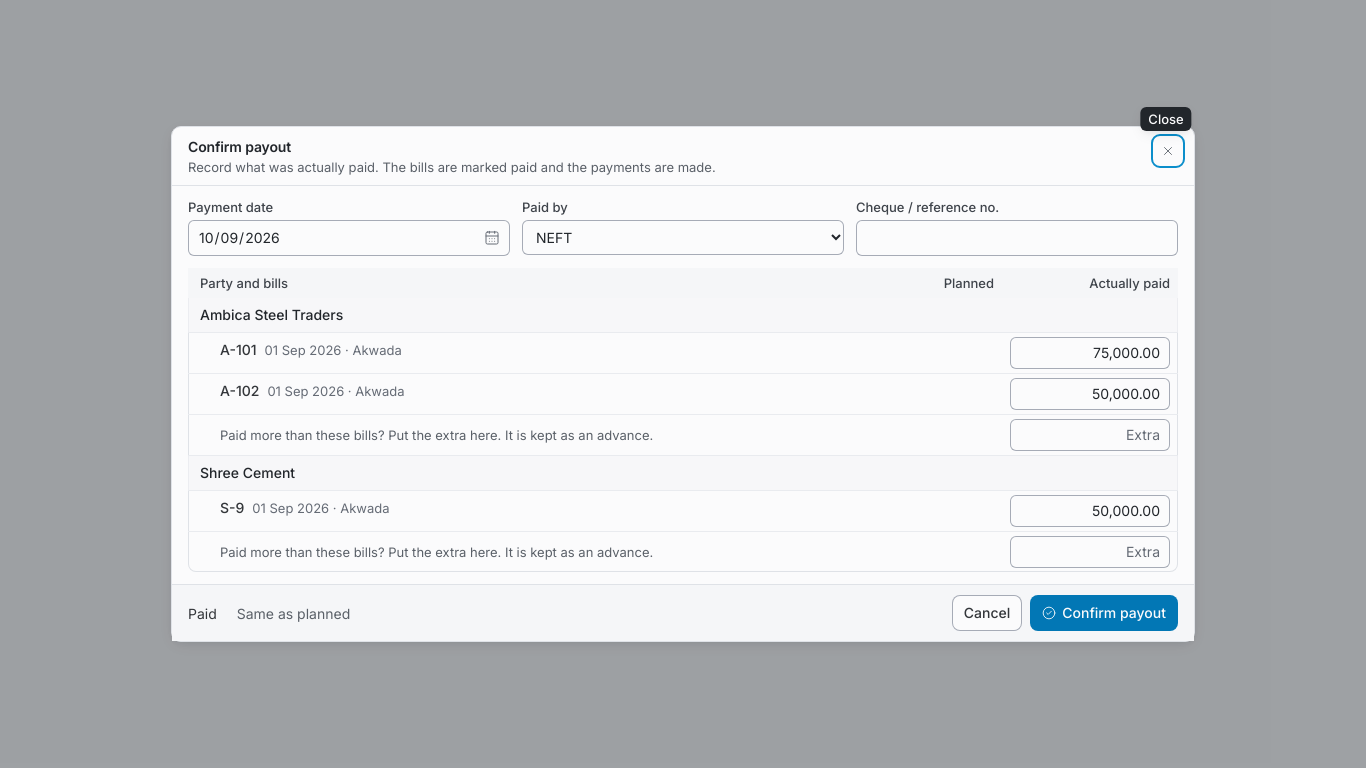
Test: ConfirmPayoutDialog › puts the server's reason on the bill it is about, and stays open
Click the button "Confirm payout".
click(1104, 613)  # box [1030,595,1178,631]
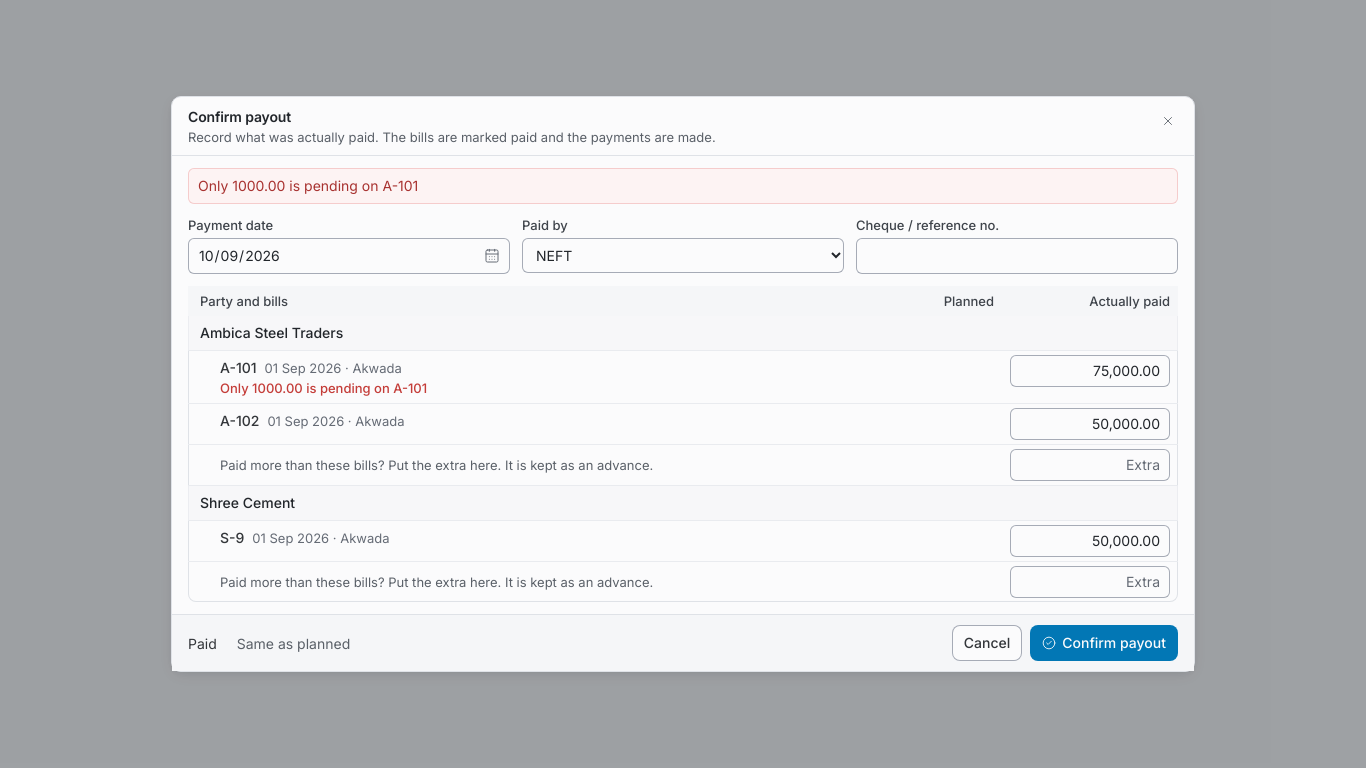
Result: the 1st text "Only 1000.00 is pending on A-101" is shown at [198,176,418,196]
